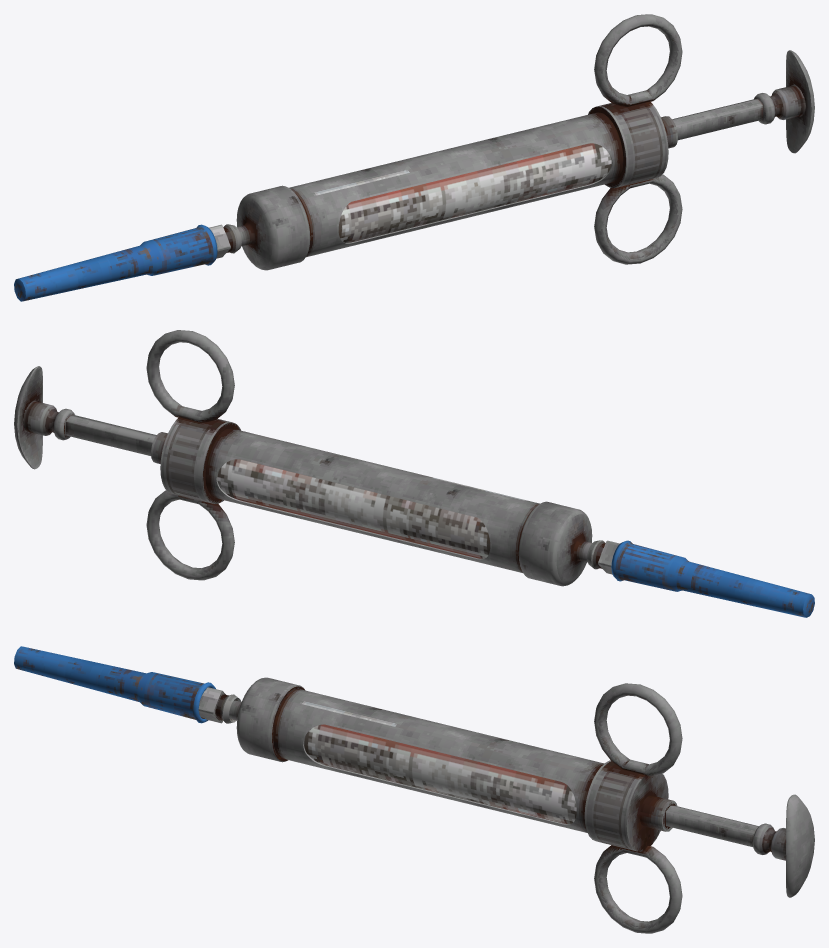
Rendered from Adrenaline Syringe.fbx.
The picture shows the model from 3 angles, top to bottom: view 1: azimuth 30°, elevation 25°; view 2: azimuth 150°, elevation 25°; view 3: azimuth 330°, elevation 25°; orthographic projection.
Visible parts, largest first — view 1: Adrenaline Syringe; view 2: Adrenaline Syringe; view 3: Adrenaline Syringe.
Part boxes in pixels (x1,y1,x2,y2): Adrenaline Syringe: (14, 14, 814, 301); Adrenaline Syringe: (14, 330, 814, 617); Adrenaline Syringe: (14, 646, 814, 933).
Bounding box in the file's own units: 97.87 × 29.51 × 9.03.
